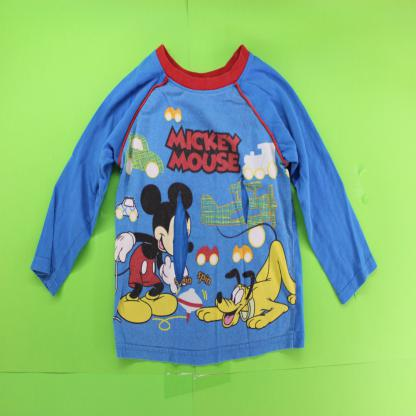hole: (170, 186, 192, 291), (237, 170, 252, 229)
